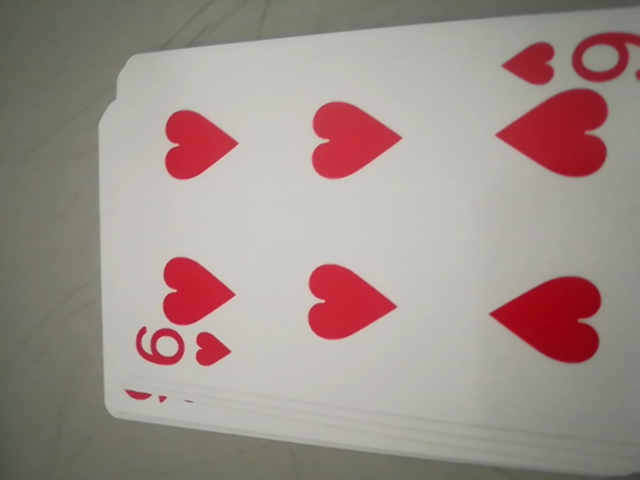hx 6: (116, 322, 233, 395)
